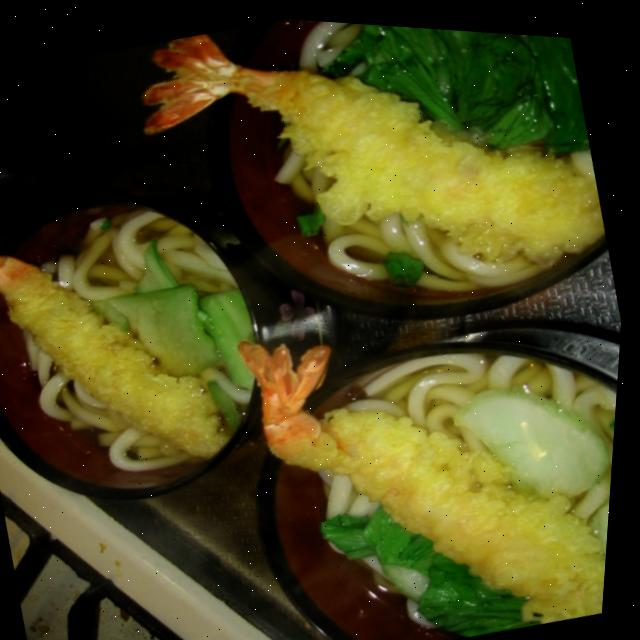面条主食: (199, 11, 624, 334)
